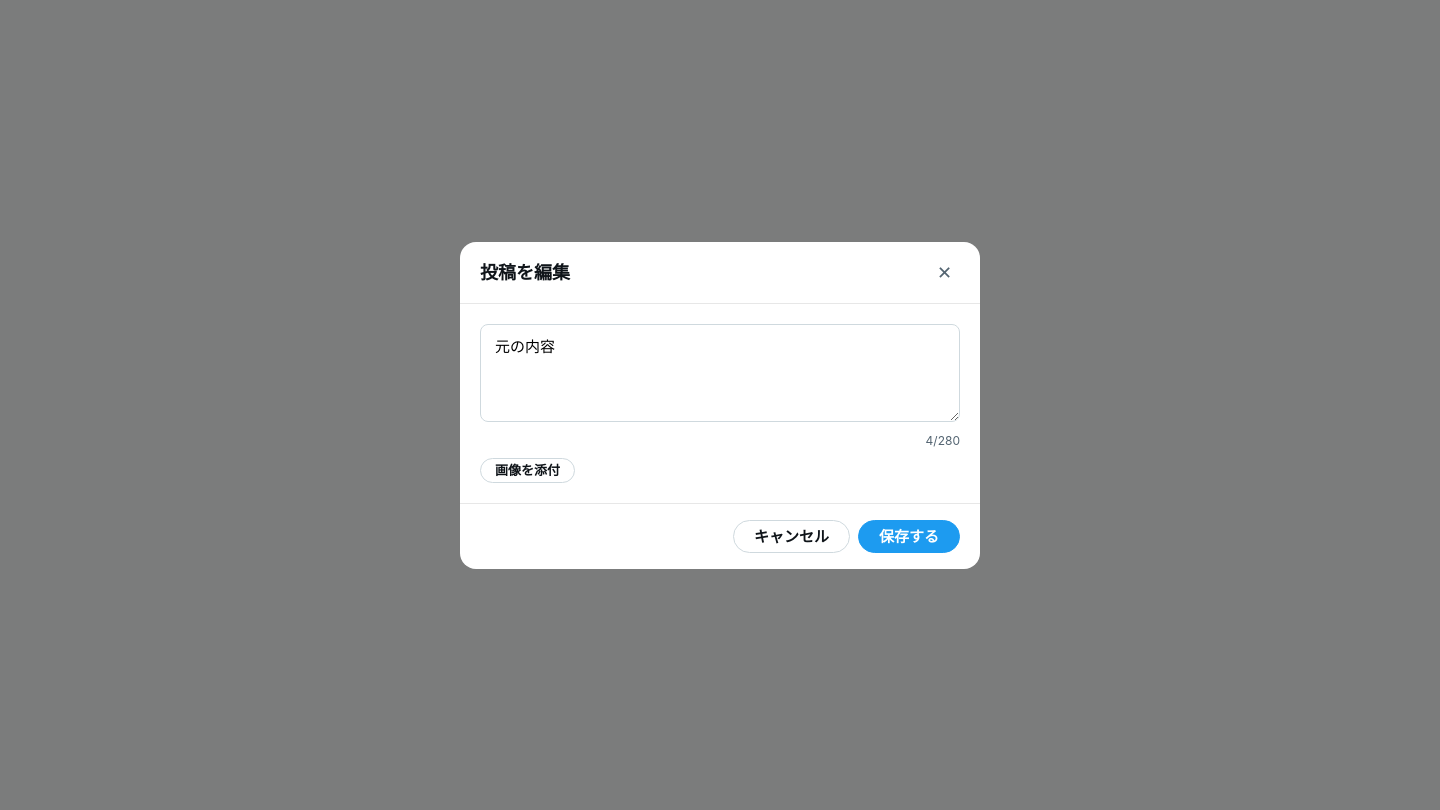
EditPostModal › 内容を空にする（無効クラス）→ 保存するボタンが無効化される
The width and height of the screenshot is (1440, 810).
Clear the text box showing "元の内容" at (720, 372), box [480,324,960,422]
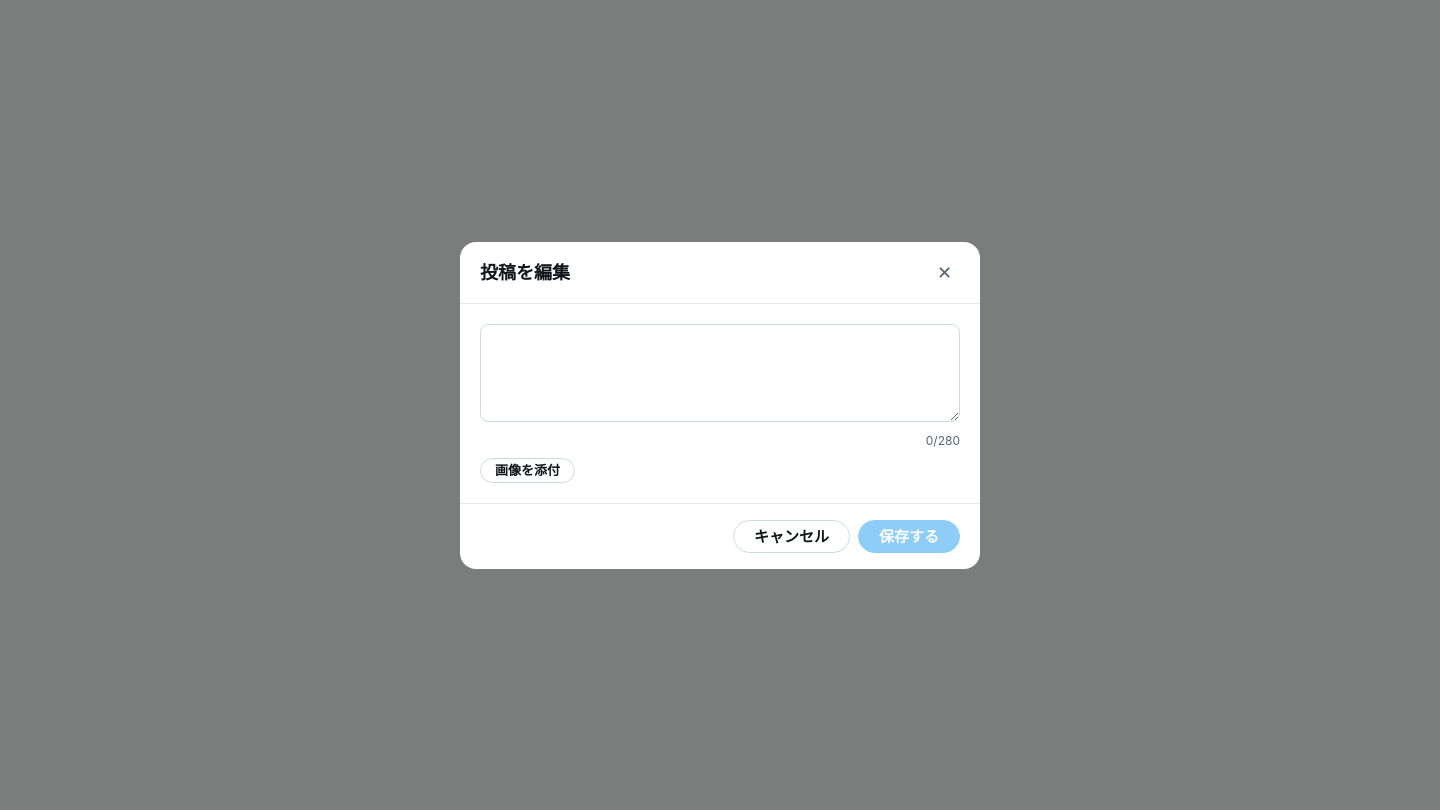
Now the button "保存する" is disabled, box [858,520,960,552]
